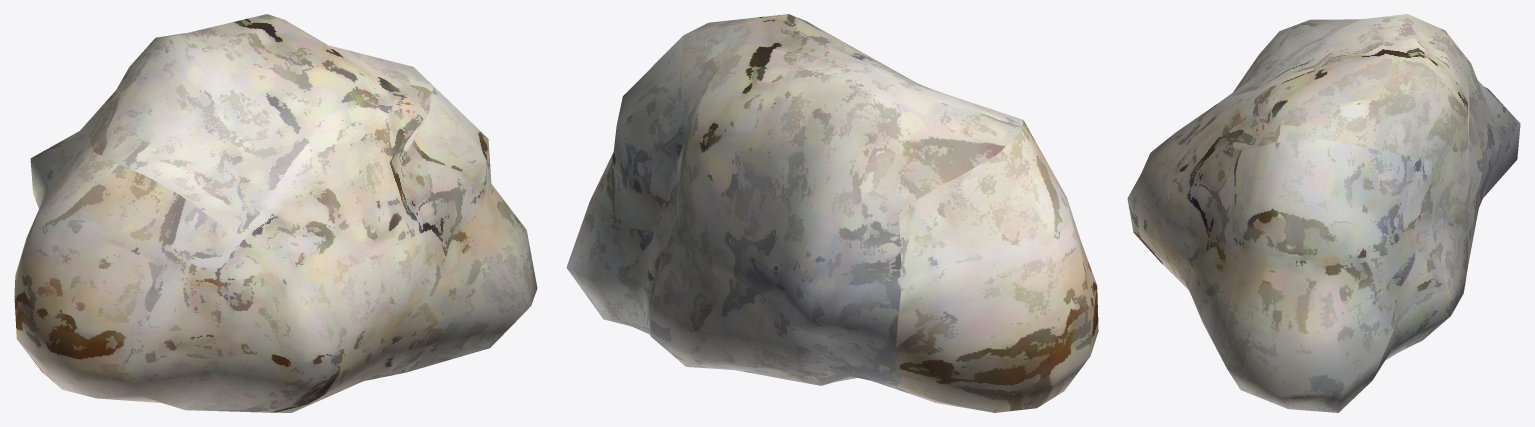
File: rock55.fbx
3 renders of one model, left to right at view 1: azimuth 30°, elevation 25°; view 2: azimuth 150°, elevation 25°; view 3: azimuth 270°, elevation 25°, orthographic. The views are drawn at different scales.
Parts seen in each view (by area): view 1: pCube57; view 2: pCube57; view 3: pCube57.
Boxes of the visible parts, box(x1,y1,x2,y2) form: pCube57: box(14, 14, 537, 412); pCube57: box(566, 14, 1098, 412); pCube57: box(1127, 14, 1520, 412).
Bounding box in the file's own units: 6.38 × 4.13 × 4.95.
